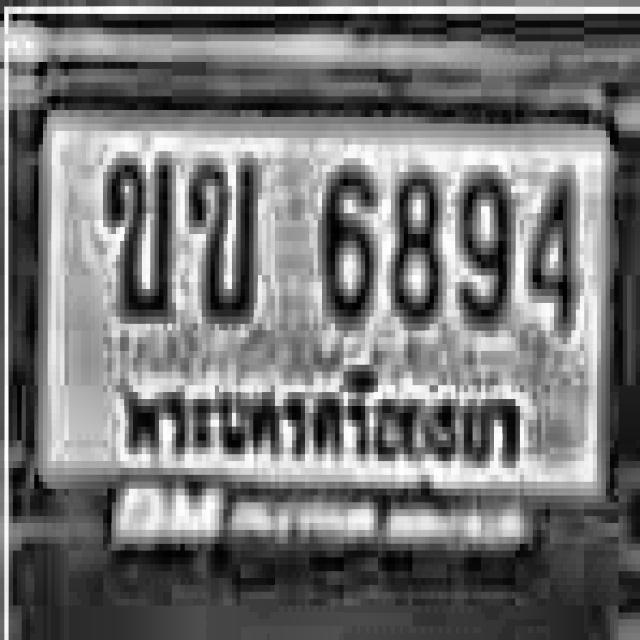license-plate: (26, 78, 635, 582)
